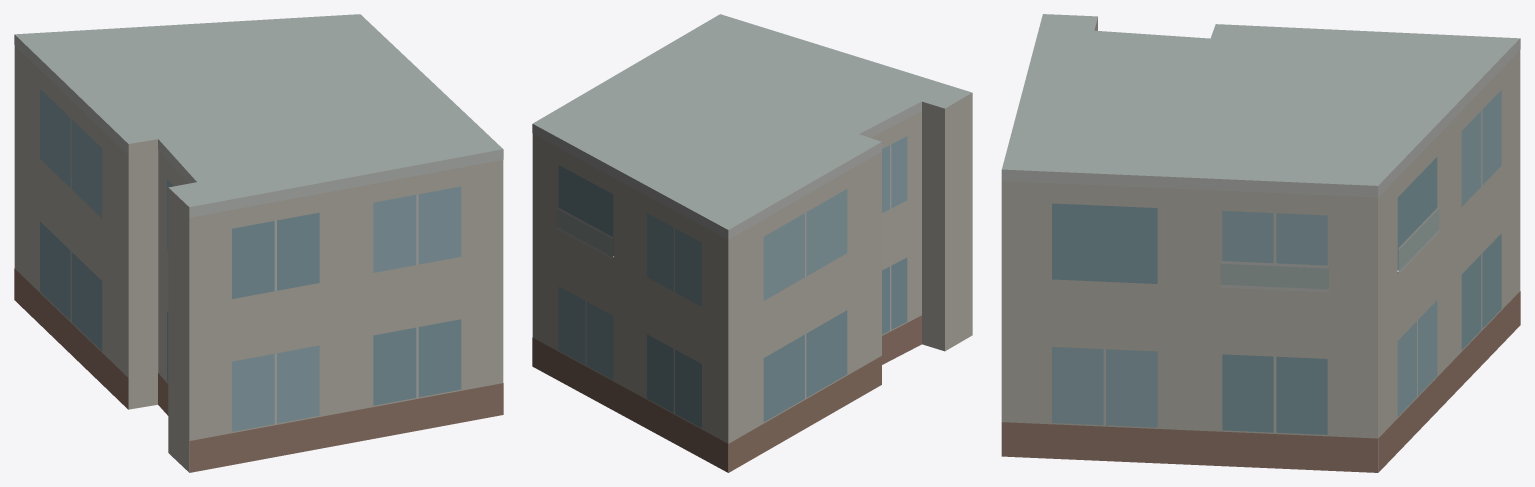
File: survey-upis-32467507.glb
3 views of the same model, side by side, from view 1: azimuth 30°, elevation 25°; view 2: azimuth 150°, elevation 25°; view 3: azimuth 270°, elevation 25° (orthographic). The views are drawn at different scales.
Parts seen in each view (by area): view 1: survey-upis-32467507.tmp; view 2: survey-upis-32467507.tmp; view 3: survey-upis-32467507.tmp.
Part boxes in pixels (box(x1,y1,x2,y2)): survey-upis-32467507.tmp: box(14, 14, 503, 472); survey-upis-32467507.tmp: box(532, 14, 972, 472); survey-upis-32467507.tmp: box(1001, 14, 1520, 472).
Bounding box in the file's own units: 7.85 × 6.1 × 10.
